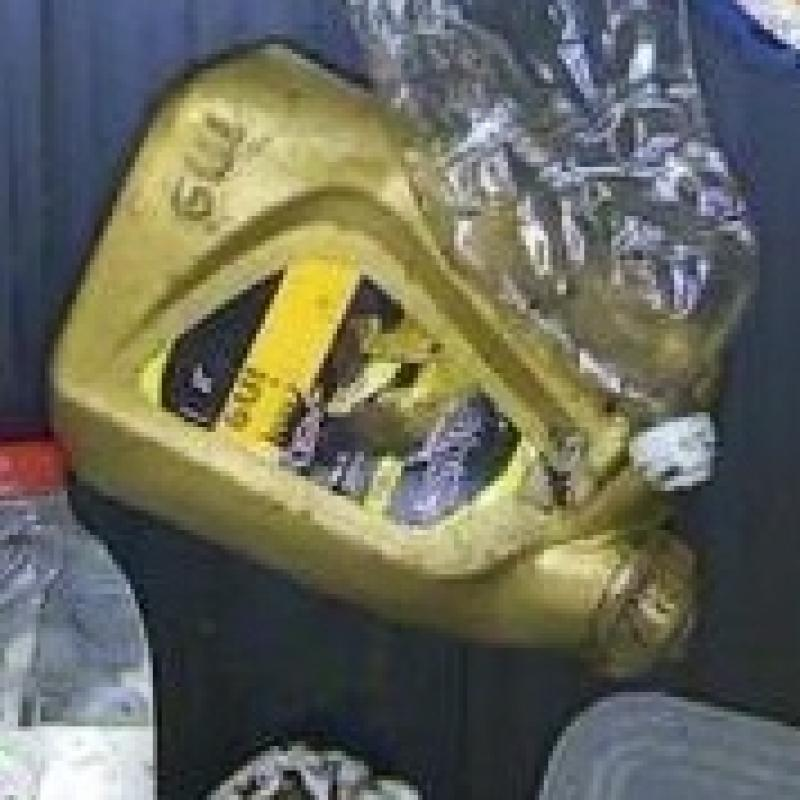botella: (335, 0, 750, 487), (0, 432, 180, 800)
